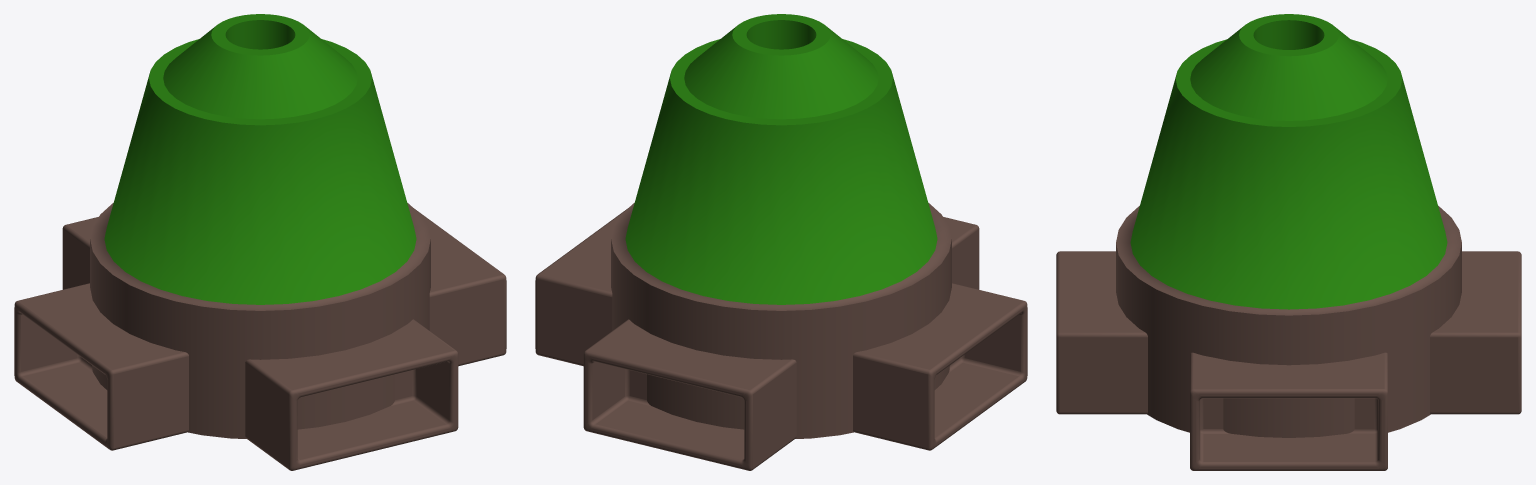
Rendered from mais1test.fbx.
3 renders of one model, left to right at view 1: azimuth 30°, elevation 25°; view 2: azimuth 150°, elevation 25°; view 3: azimuth 270°, elevation 25°, orthographic.
Visible parts, largest first — view 1: Cylinder, Cube_1_2, Cube_1; view 2: Cylinder, Cube_1_2, Cube_1; view 3: Cylinder, Cube_1, Cube_1_2.
Boxes of the visible parts, x1=… form: Cylinder: x1=90, y1=14, x2=430, y2=438; Cube_1_2: x1=14, y1=208, x2=506, y2=450; Cube_1: x1=62, y1=217, x2=458, y2=470; Cylinder: x1=611, y1=14, x2=951, y2=438; Cube_1_2: x1=535, y1=208, x2=1027, y2=450; Cube_1: x1=583, y1=217, x2=979, y2=470; Cylinder: x1=1116, y1=14, x2=1461, y2=437; Cube_1: x1=1056, y1=251, x2=1521, y2=414; Cube_1_2: x1=1190, y1=352, x2=1387, y2=470.
Bounding box in the file's own units: 97.73 × 78.43 × 97.73.
